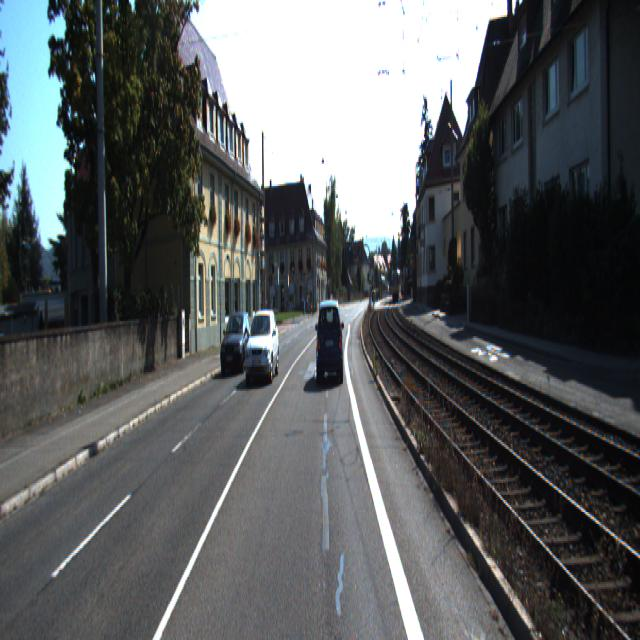Car: (246, 309, 280, 386), (316, 298, 344, 386), (220, 310, 252, 376)
